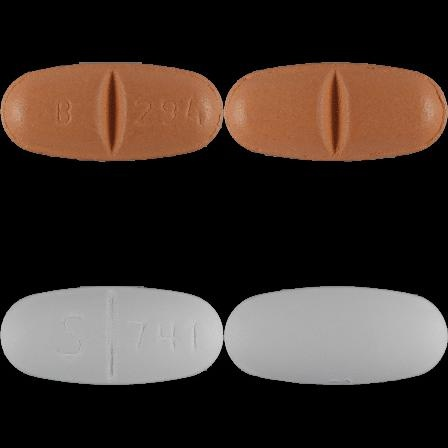60429-063: (0, 0, 224, 224)
